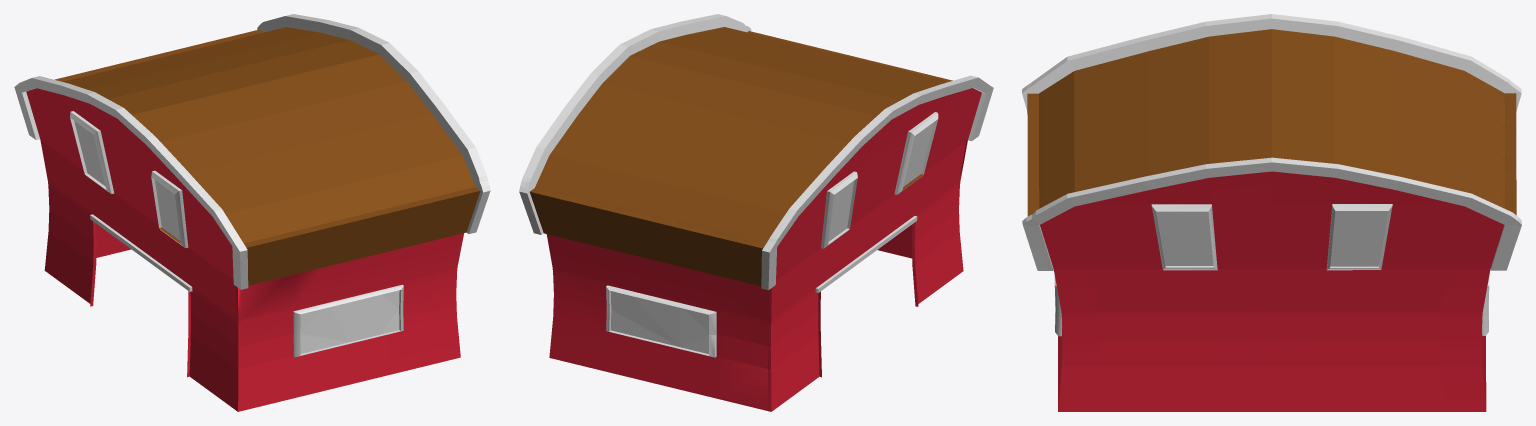
File: EtableInterior 1.fbx
3 views of the same model, side by side, from view 1: azimuth 30°, elevation 25°; view 2: azimuth 150°, elevation 25°; view 3: azimuth 270°, elevation 25° (orthographic). The views are drawn at different scales.
Parts seen in each view (by area): view 1: Interior; view 2: Interior; view 3: Interior.
Part boxes in pixels (bbox=[...]): Interior: bbox=[14, 14, 490, 411]; Interior: bbox=[519, 14, 993, 411]; Interior: bbox=[1022, 14, 1521, 411].
Size of the model in its own units: 479 by 397 by 682.
